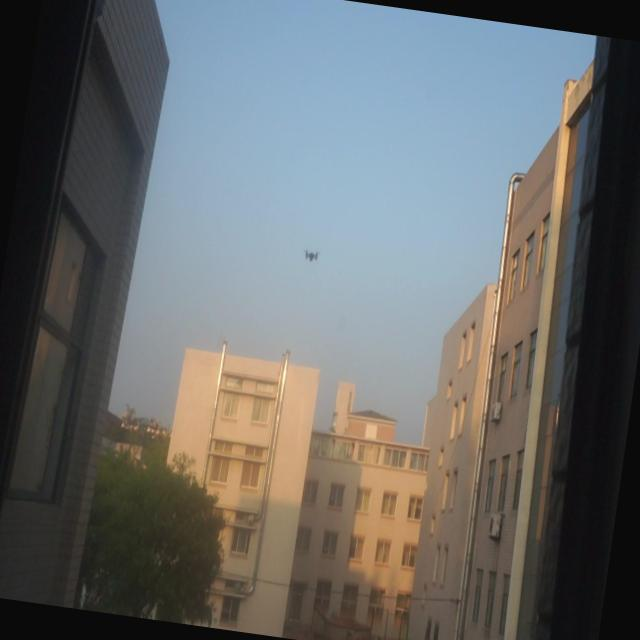drone: (304, 248, 320, 264)
